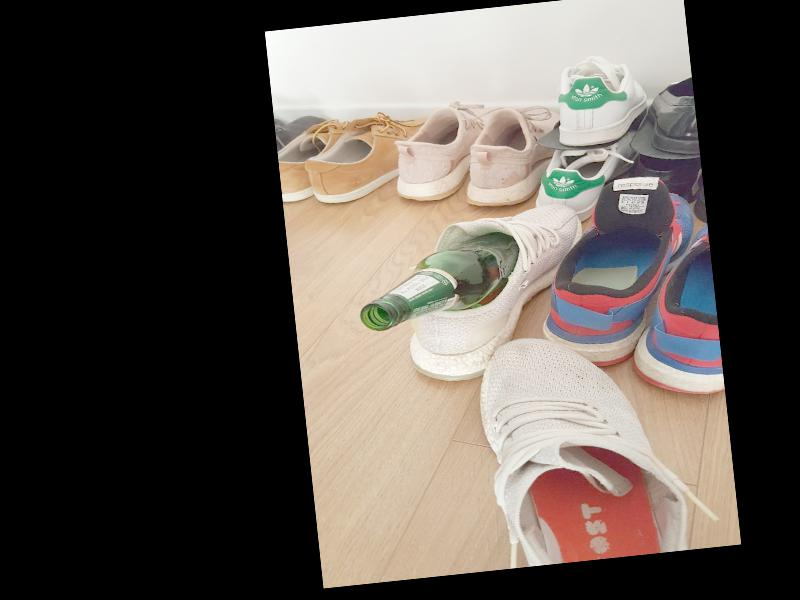Beer: (352, 227, 526, 332)
